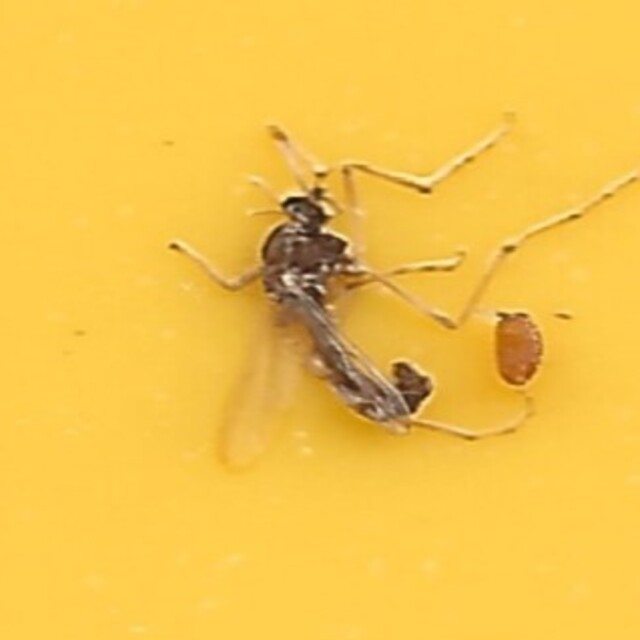Nematocera: (201, 177, 439, 463)
